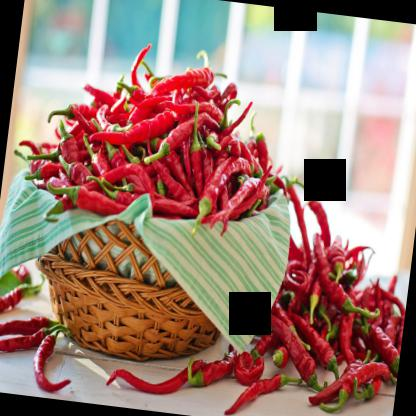chilli: (34, 46, 280, 238), (252, 199, 415, 415)
